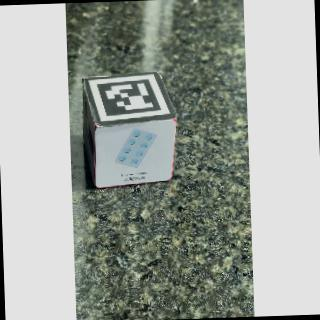Tablet: (97, 123, 177, 188)
